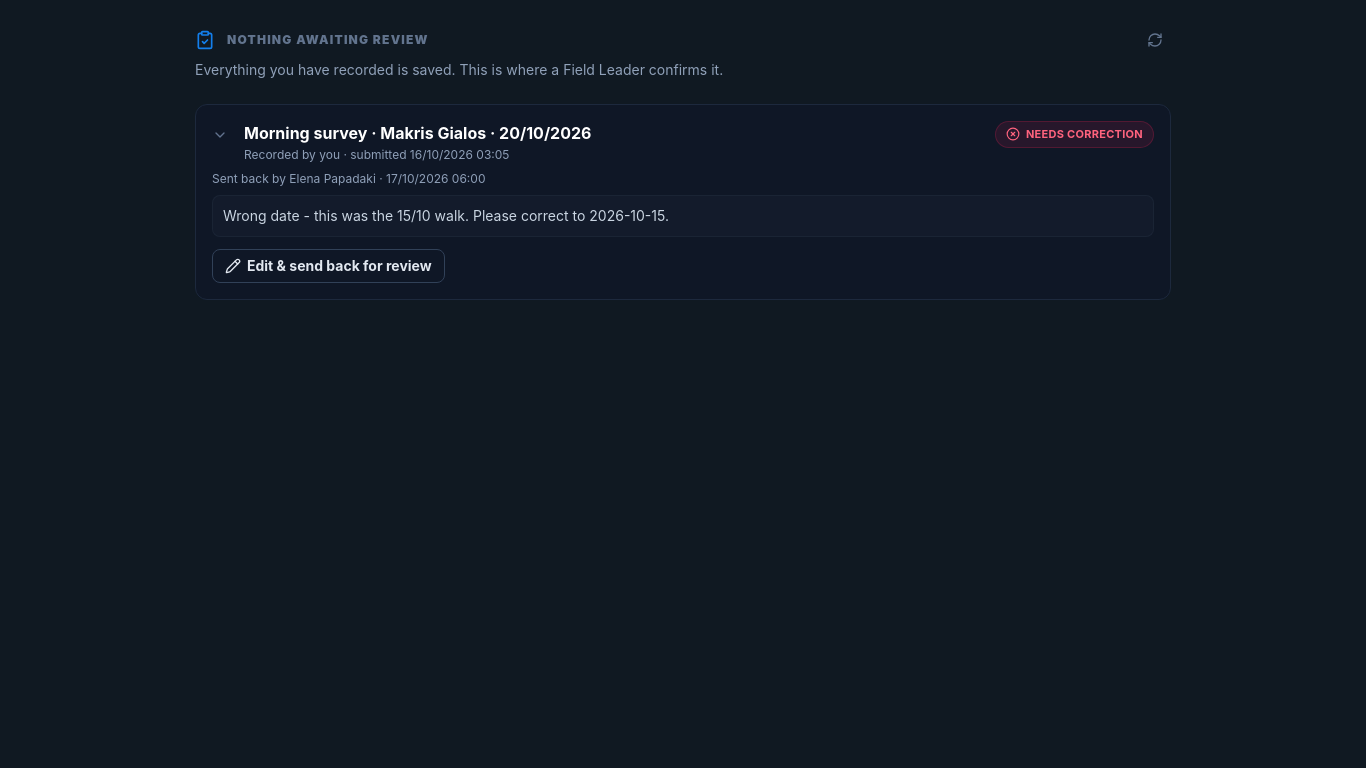
Test case: ReviewQueue — correcting a morning survey's date (QA-129) › renders survey_date as an editable date field, not fixed like beach
Click the text "Morning survey · Makris Gialos · 20/10/2026" at [418, 133], box [244, 123, 591, 143]
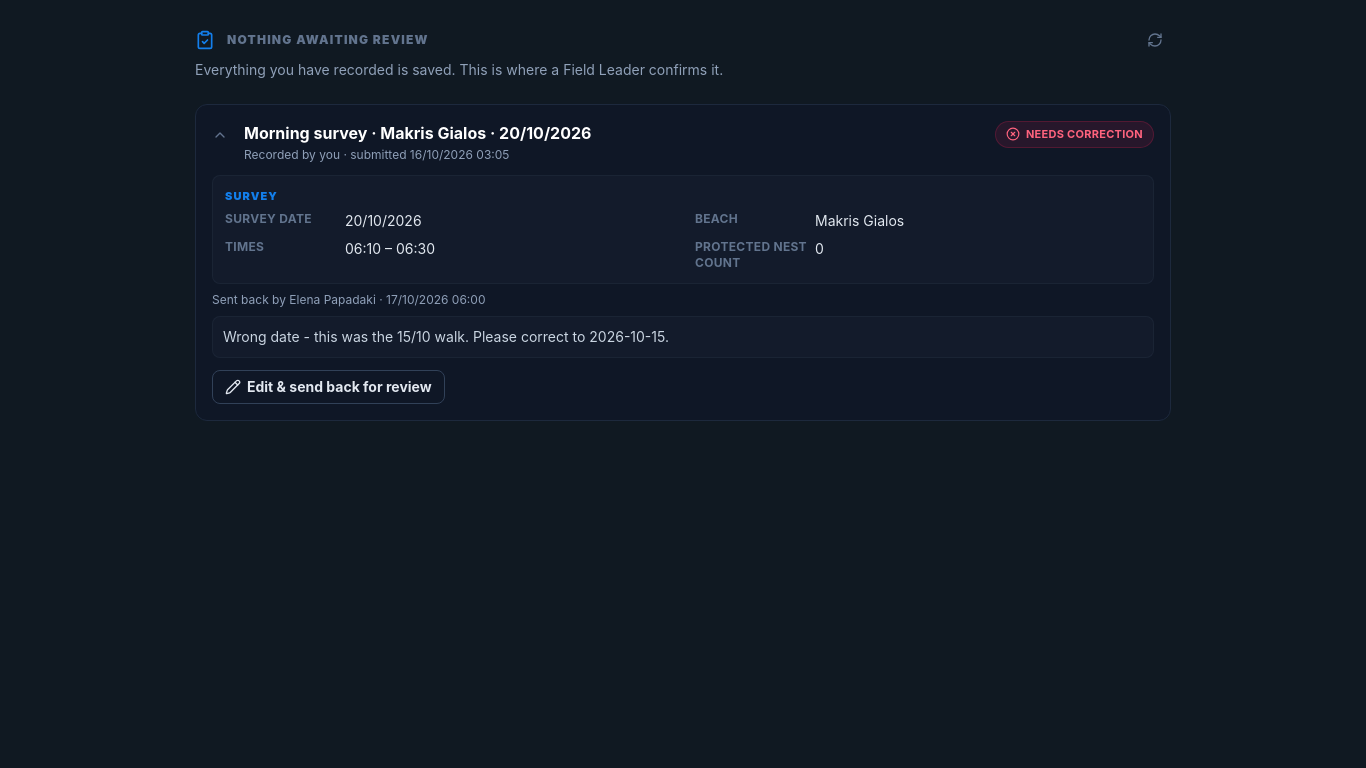
Click the button "Edit & send back for review" at [328, 386], box [212, 370, 445, 404]
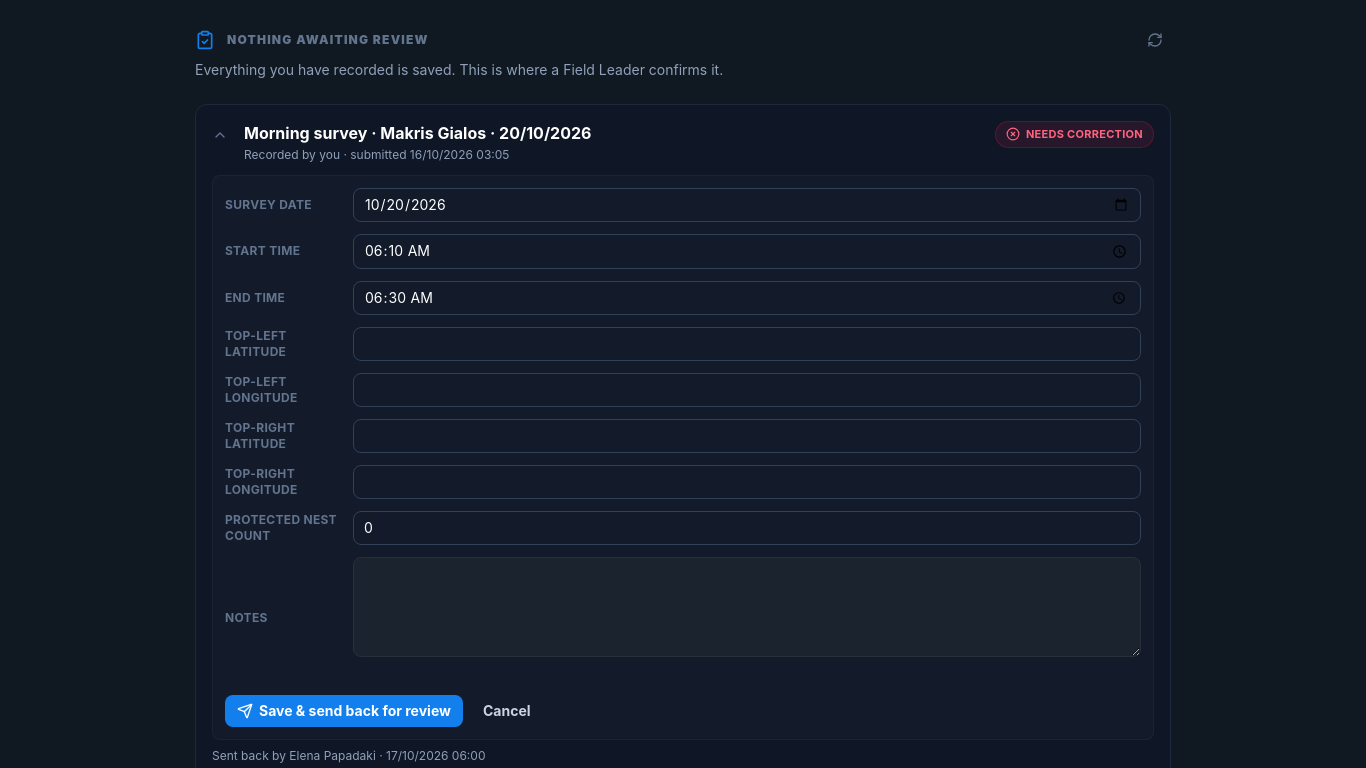
Check: the date field labelled "Survey date" holds "2026-10-20", box [353, 188, 1141, 222]
Check: the text labelled "Beach" is gone
